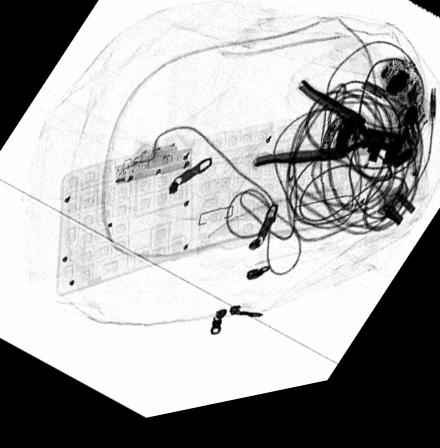Pliers: (253, 91, 408, 183)
